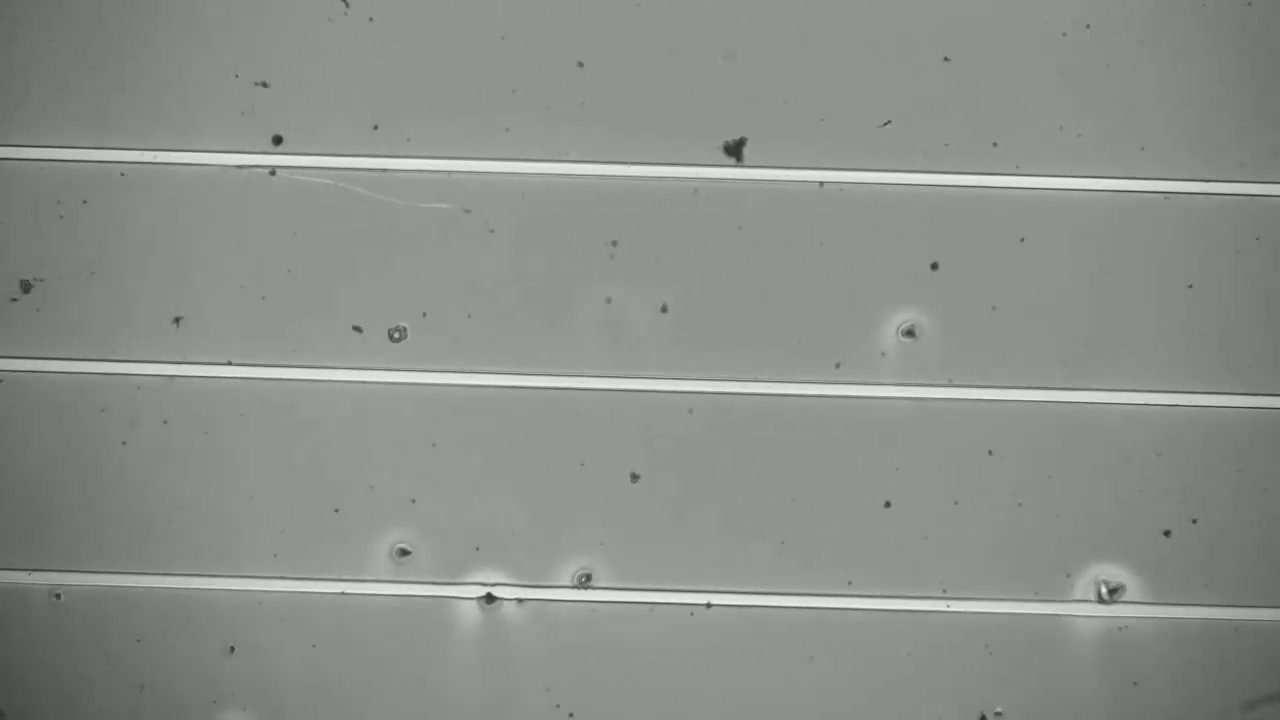stains_enbedded: (473, 571, 514, 619)
